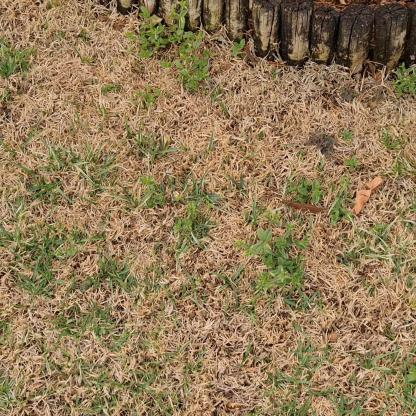Weeds: (127, 3, 212, 93), (234, 207, 310, 301), (138, 170, 208, 249), (286, 176, 355, 225), (233, 39, 247, 60)
